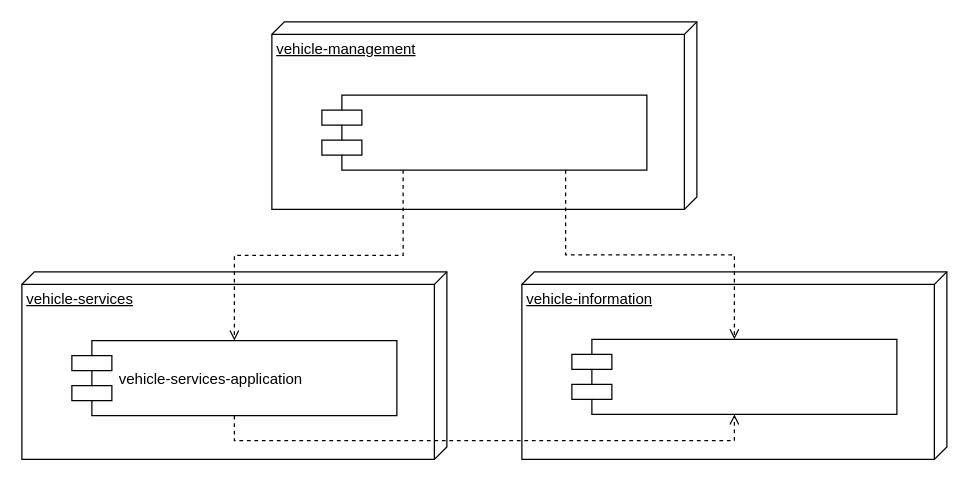
Image size: 969x481. Some labels were removed from this diagram. Here are the shapes that lost their labels. From the top down, the centre of each, then its label:
At (484,132): "vehicle-management-application".
At (734,376): "vehicle-information-application".
